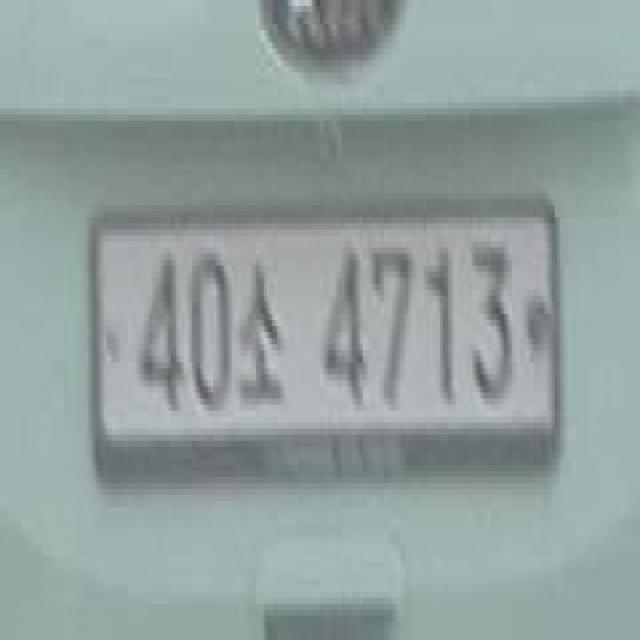0: (186, 254, 226, 416)
1: (427, 242, 456, 410)
3: (469, 235, 515, 410)
4: (133, 254, 187, 416), (320, 253, 368, 404)
7: (371, 242, 413, 404)
license_plate: (85, 193, 558, 453)
so: (235, 260, 282, 410)
